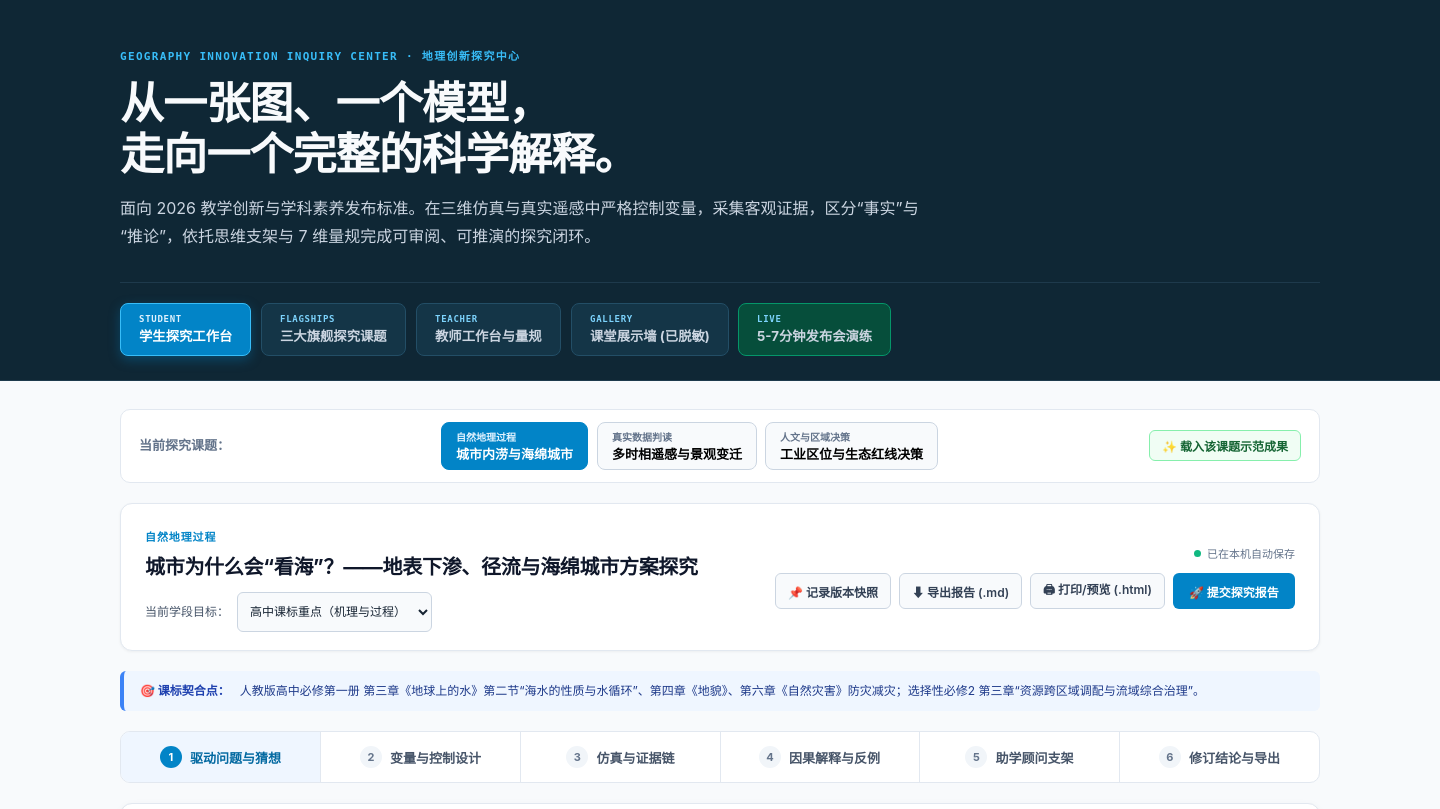
Test: InquiryStudio Hub Page › switches to flagship tasks overview tab
The width and height of the screenshot is (1440, 809).
Click the tab with class "tab-btn" showing "FLAGSHIPS 三大旗舰探究课题": (334, 329) x1=261 y1=303 x2=406 y2=356
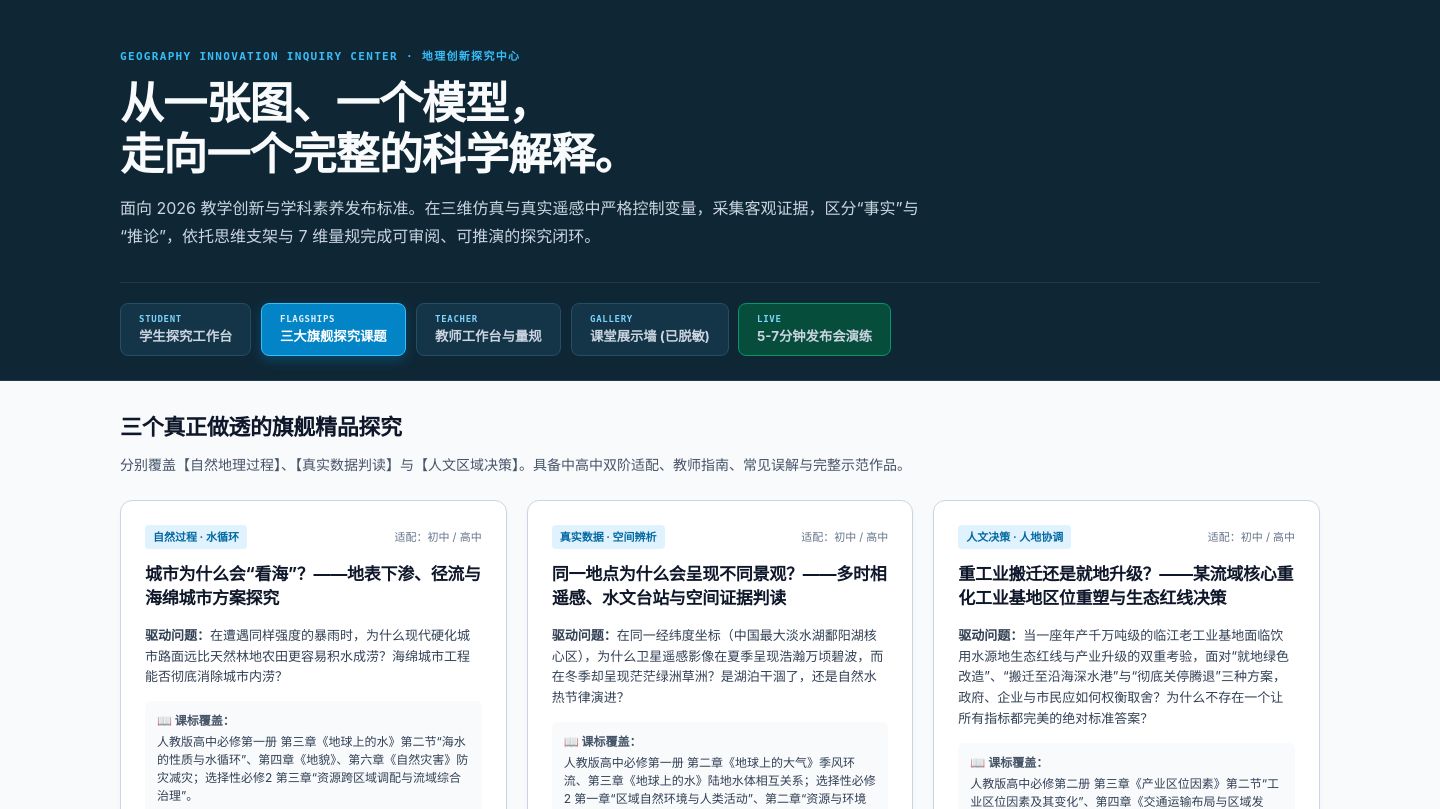
Expected: the text "城市为什么会“看海”" is shown, x1=145 y1=564 x2=481 y2=608
Expected: the text "三个真正做透的旗舰精品探究" is shown, x1=120 y1=414 x2=402 y2=440
